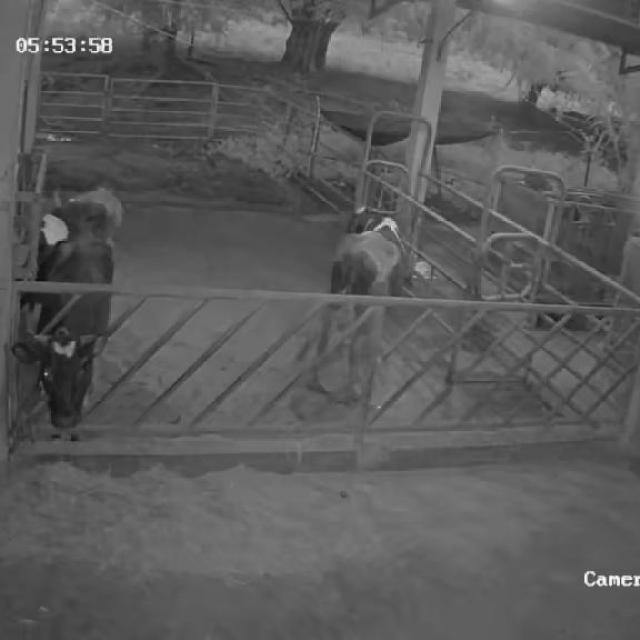feeding: (26, 195, 116, 439)
standing: (313, 203, 412, 419)
